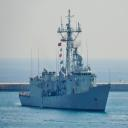Fragata: (19, 11, 112, 113)
